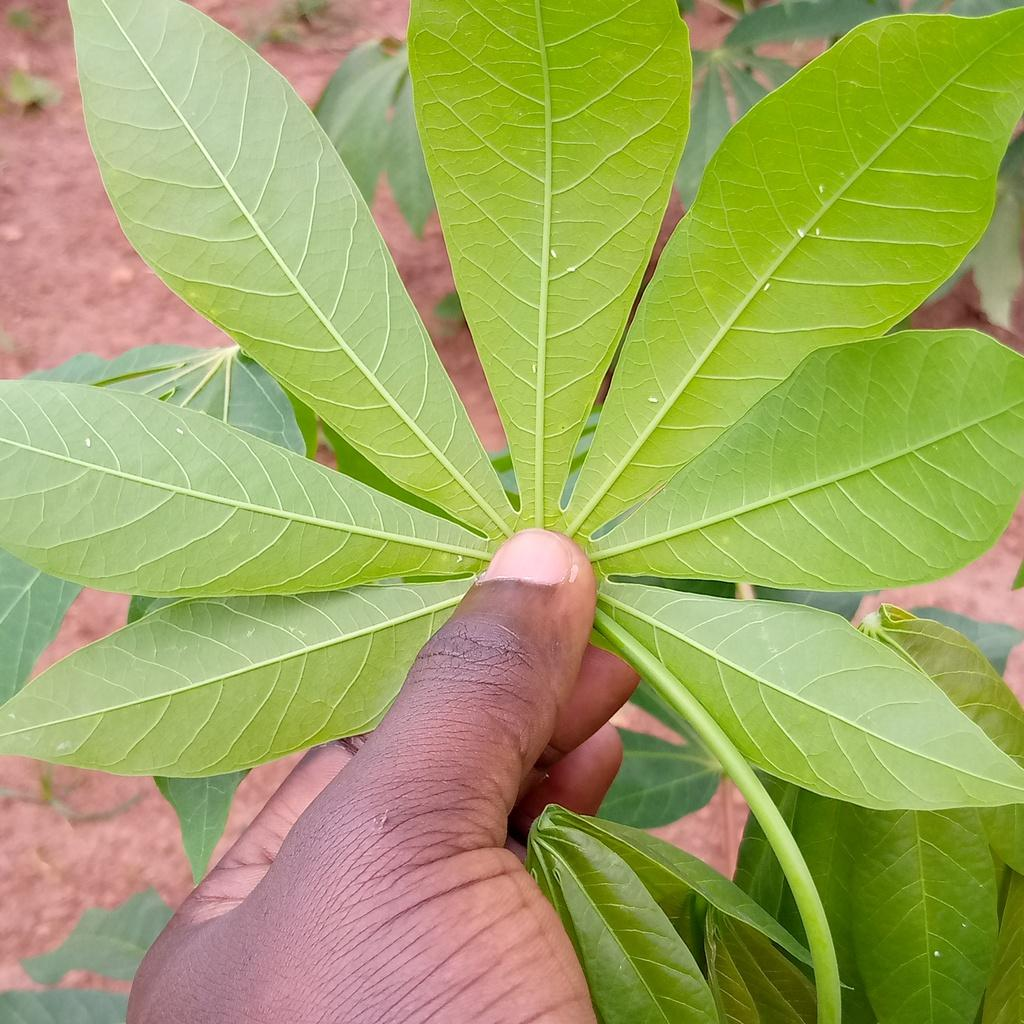adult: (796, 229, 804, 238), (175, 427, 184, 435), (456, 554, 464, 563), (648, 397, 658, 403), (85, 438, 91, 447), (764, 283, 770, 291), (550, 250, 556, 258), (567, 267, 576, 272), (815, 228, 820, 236), (532, 364, 536, 374), (819, 186, 823, 194)
